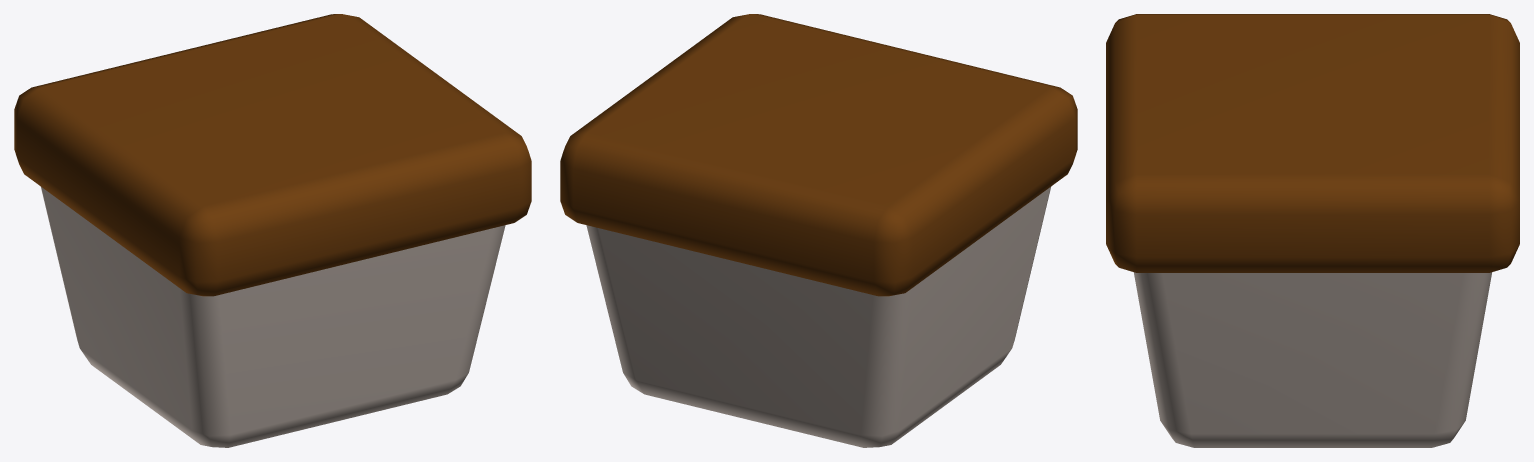
Rendered from stool_01_brown_dark.fbx.
The picture shows the model from 3 angles, left to right: view 1: azimuth 30°, elevation 25°; view 2: azimuth 150°, elevation 25°; view 3: azimuth 270°, elevation 25°; orthographic projection. The views are drawn at different scales.
Parts seen in each view (by area): view 1: stool_01_brown_dark; view 2: stool_01_brown_dark; view 3: stool_01_brown_dark.
Boxes of the visible parts, <box> form: stool_01_brown_dark: <box>14,14,531,447</box>; stool_01_brown_dark: <box>560,14,1077,447</box>; stool_01_brown_dark: <box>1106,14,1519,447</box>.
Bounding box in the file's own units: 57.16 × 42.36 × 54.02.
1 material, 1 textured.
